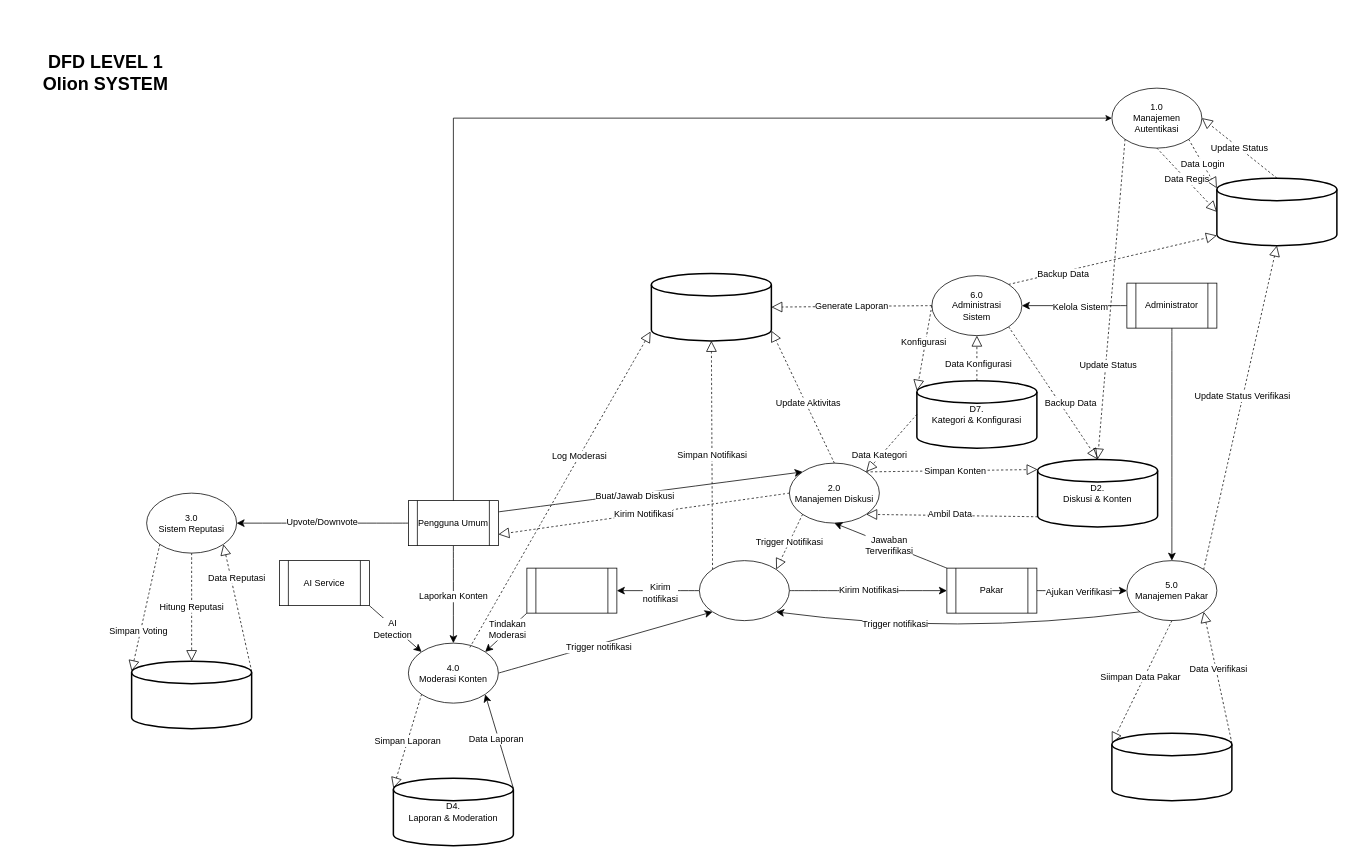
Some shapes in this 1350 by 859 pixel diagram are drawn without their labels. The shapes that lost their labels are listed below. From the top down, each one's box as (x1, y1, x2, y2) in pixels, then its label:
(1216, 177, 1337, 246): D1. User & Profil Anonim
(650, 272, 772, 341): D6. Log Aktivitas
(526, 567, 617, 613): Moderator
(699, 560, 789, 621): 7.0 Notifikasi Real-Time
(130, 660, 252, 729): D3. Voting & Repotasi
(1111, 732, 1232, 801): D5. Pakar & Verivikasi
